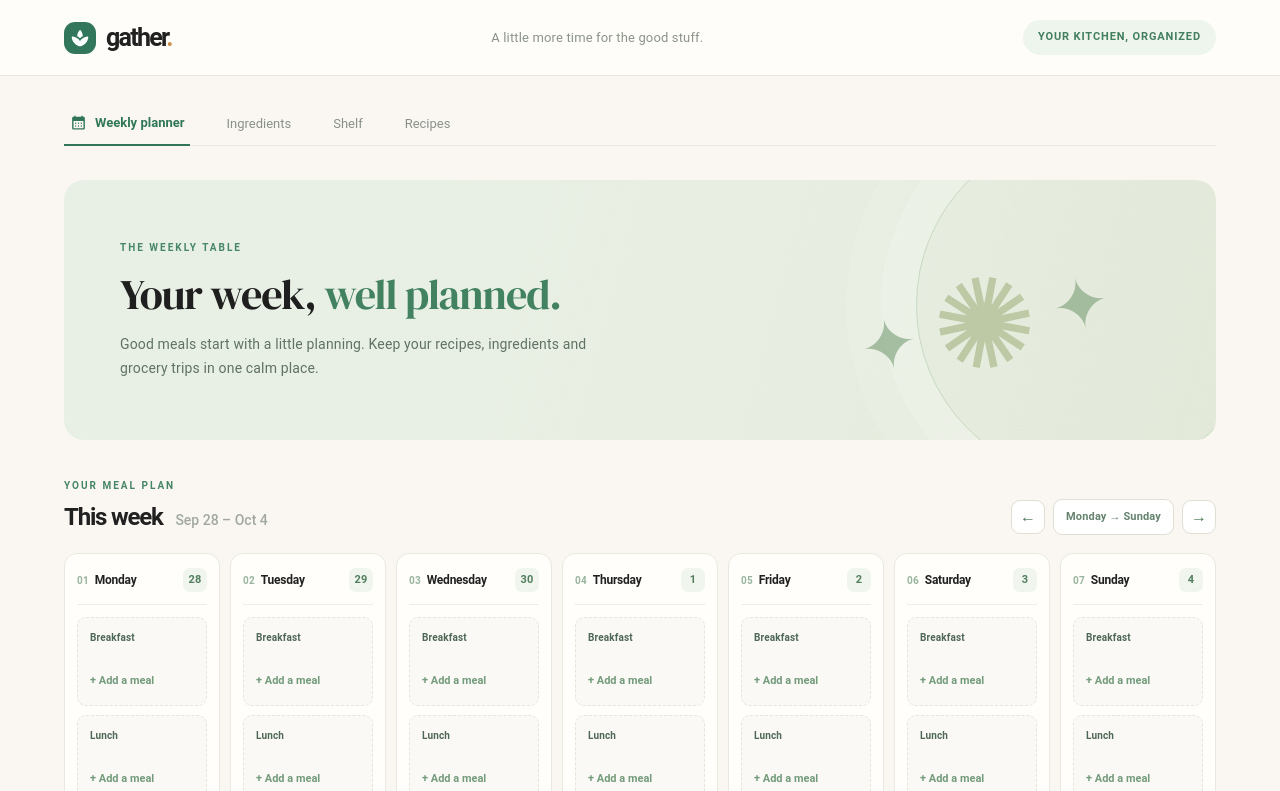
Test case: weekly meal planner › shows an empty Shelf even when ingredient definitions exist but no food was purchased
Click the button "Shelf" at [348, 124], box [327,102,369,146]
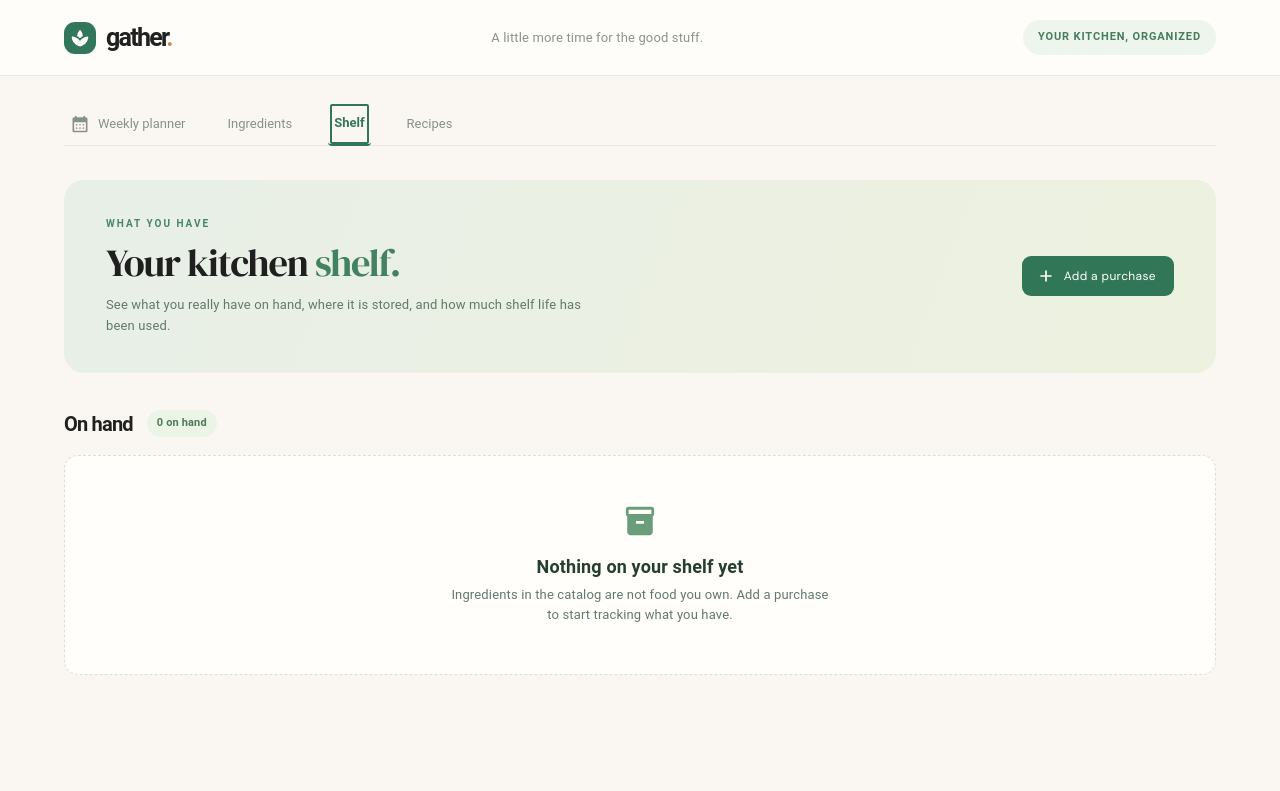
Expected: the heading "Nothing on your shelf yet" is shown, [536,556,743,577]
Expected: the text "0 on hand" is shown, [147,410,217,437]
Expected: the button "Add a purchase" is shown, [1022,256,1174,296]
